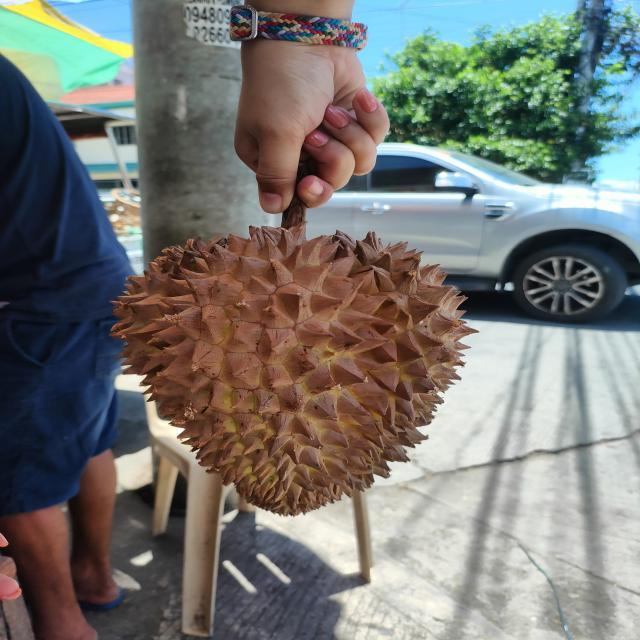mature: (109, 219, 482, 517)
